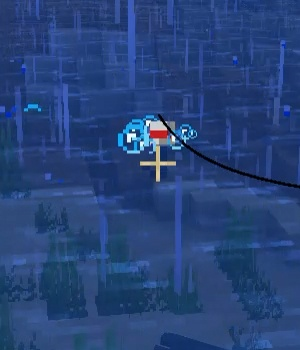up: (142, 110, 178, 155)
